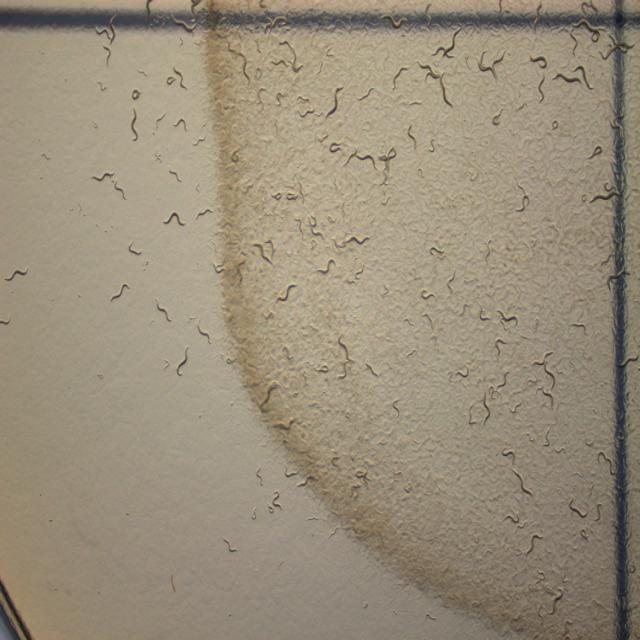filarid: (91, 172, 126, 199), (511, 467, 532, 495), (332, 235, 370, 248), (252, 242, 271, 264), (276, 284, 298, 302), (162, 210, 186, 226), (176, 347, 189, 375), (111, 282, 130, 301), (196, 320, 211, 344), (156, 299, 171, 322), (569, 497, 586, 517), (318, 259, 335, 274), (5, 268, 28, 279), (338, 337, 348, 356), (502, 450, 515, 463), (129, 242, 141, 254), (169, 168, 180, 180), (265, 240, 274, 253), (199, 209, 212, 215), (482, 394, 485, 403)
